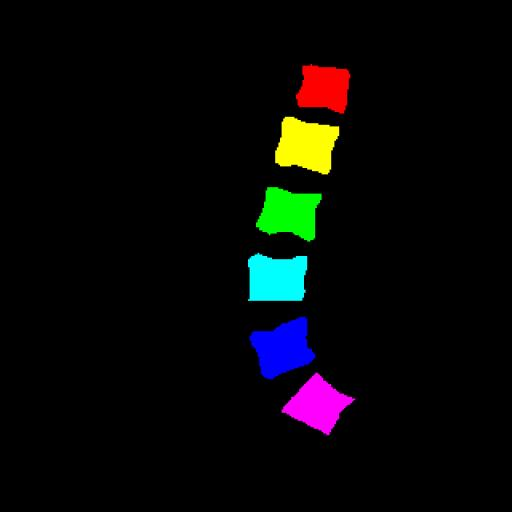L1: (296, 65, 350, 114)
L2: (275, 117, 339, 174)
L3: (256, 187, 322, 242)
L4: (248, 254, 307, 301)
L5: (250, 317, 315, 379)
S1: (282, 373, 355, 434)
